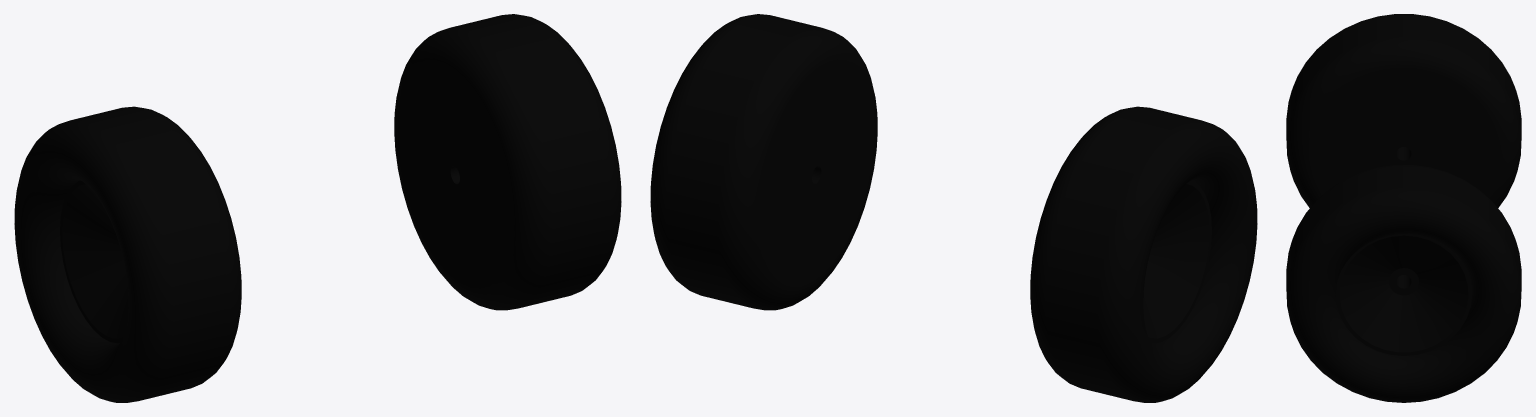
3 views of the same model, side by side, from view 1: azimuth 30°, elevation 25°; view 2: azimuth 150°, elevation 25°; view 3: azimuth 270°, elevation 25° (orthographic). The views are drawn at different scales.
Visible parts, largest first — view 1: wheels; view 2: wheels; view 3: wheels.
Part boxes in pixels (x1=…): wheels: x1=14, y1=14, x2=621, y2=402; wheels: x1=650, y1=14, x2=1257, y2=402; wheels: x1=1286, y1=14, x2=1521, y2=402.
Bounding box in the file's own units: 0.9557 × 0.4931 × 0.4934.
1 material, 1 textured.
